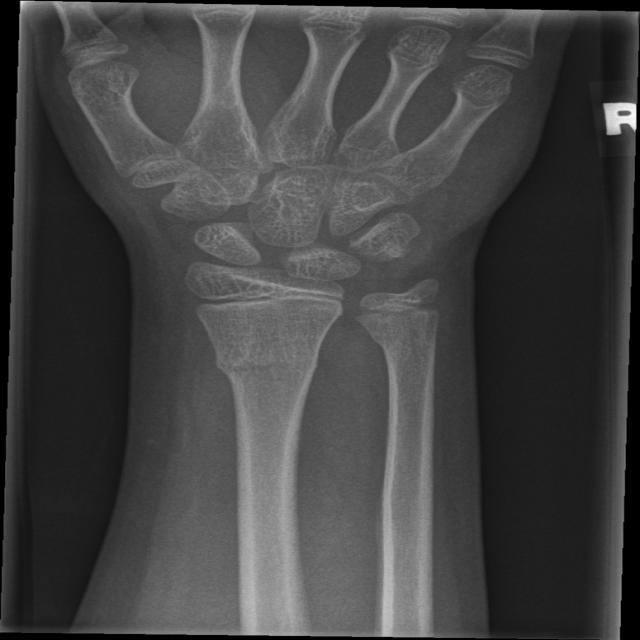radius fracture: (208, 343, 304, 408)
